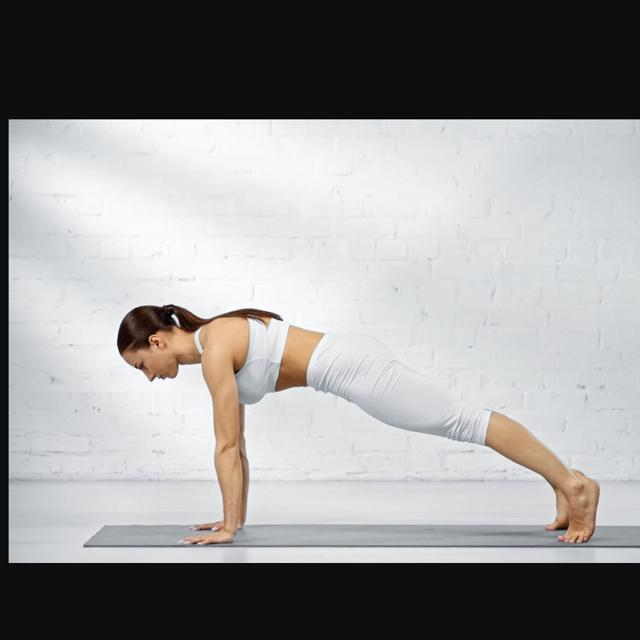Plank_Pose: (110, 300, 606, 549)
